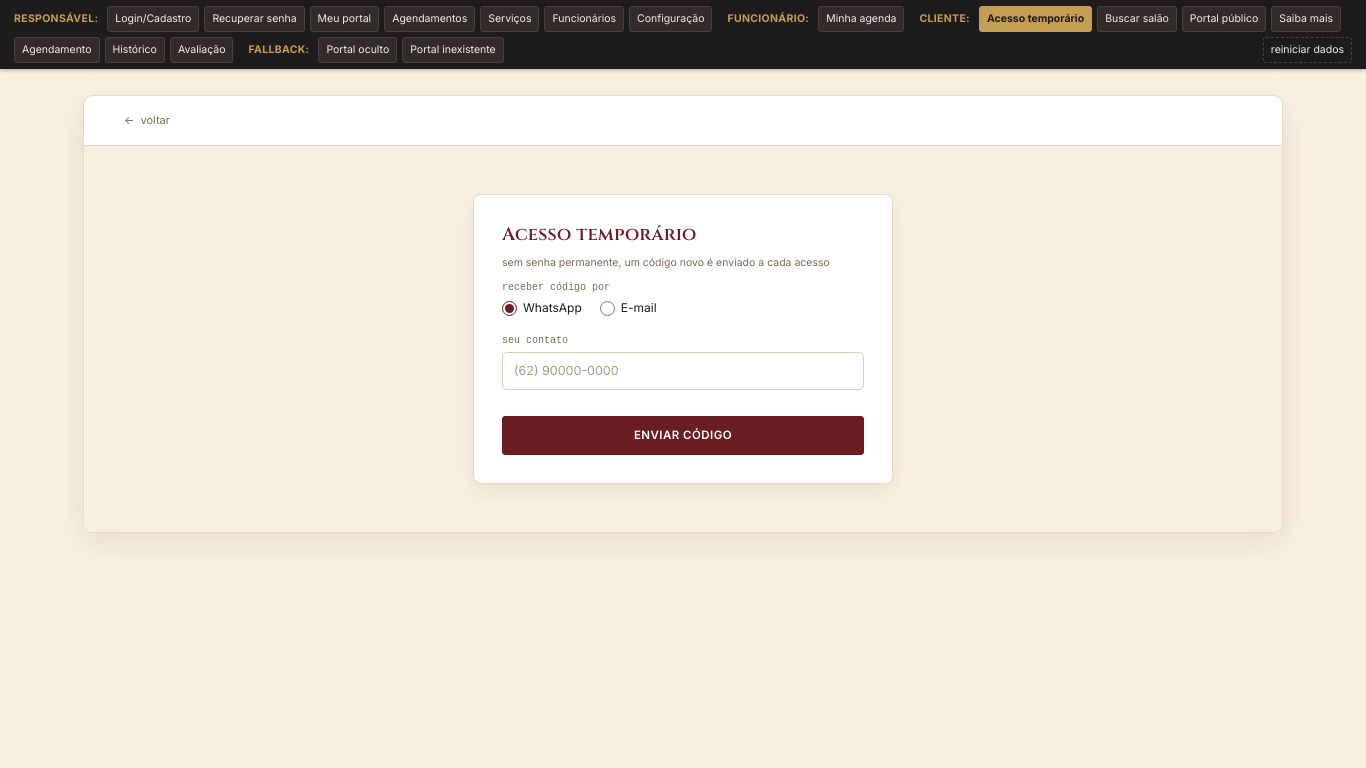
Test: acesso do cliente e busca › codigo errado e certo, depois lista saloes
Check: the heading "Acesso temporário" is shown, box x1=502 y1=222 x2=697 y2=246
Type "62999990000" into the field labelled "seu contato".
click(683, 371); type("62999990000")  # box x1=502 y1=352 x2=864 y2=390
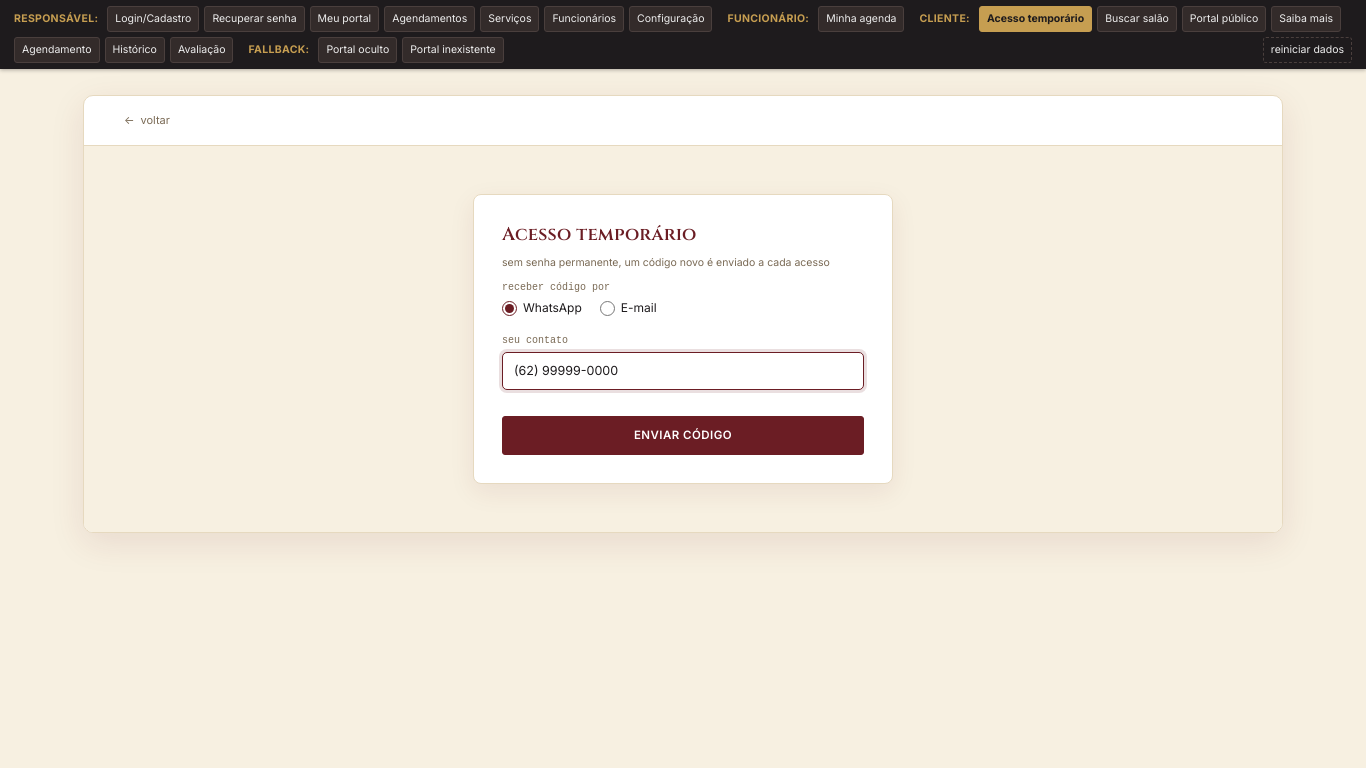
Click the button "Enviar código".
click(683, 435)  # box x1=502 y1=416 x2=864 y2=455
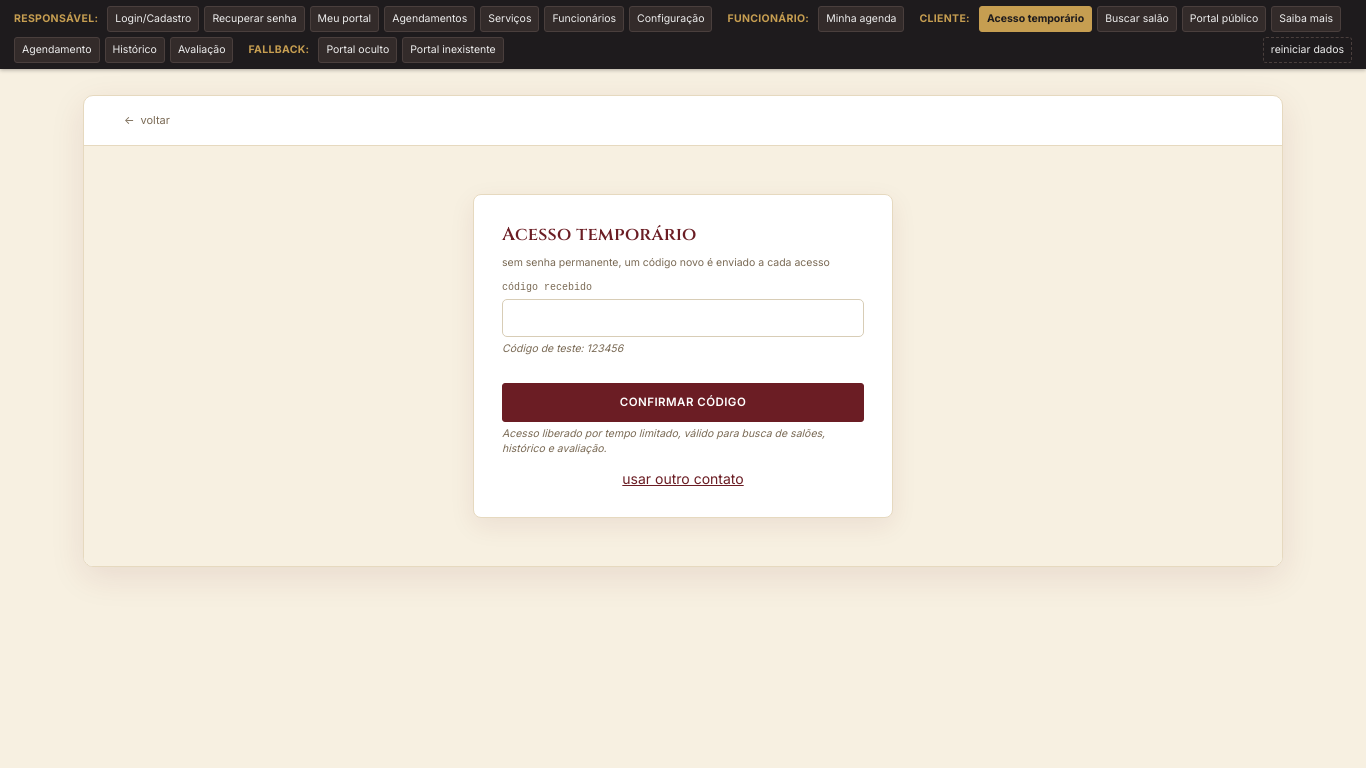
Type "000000" into the field labelled "código recebido".
click(683, 318); type("000000")  # box x1=502 y1=299 x2=864 y2=337
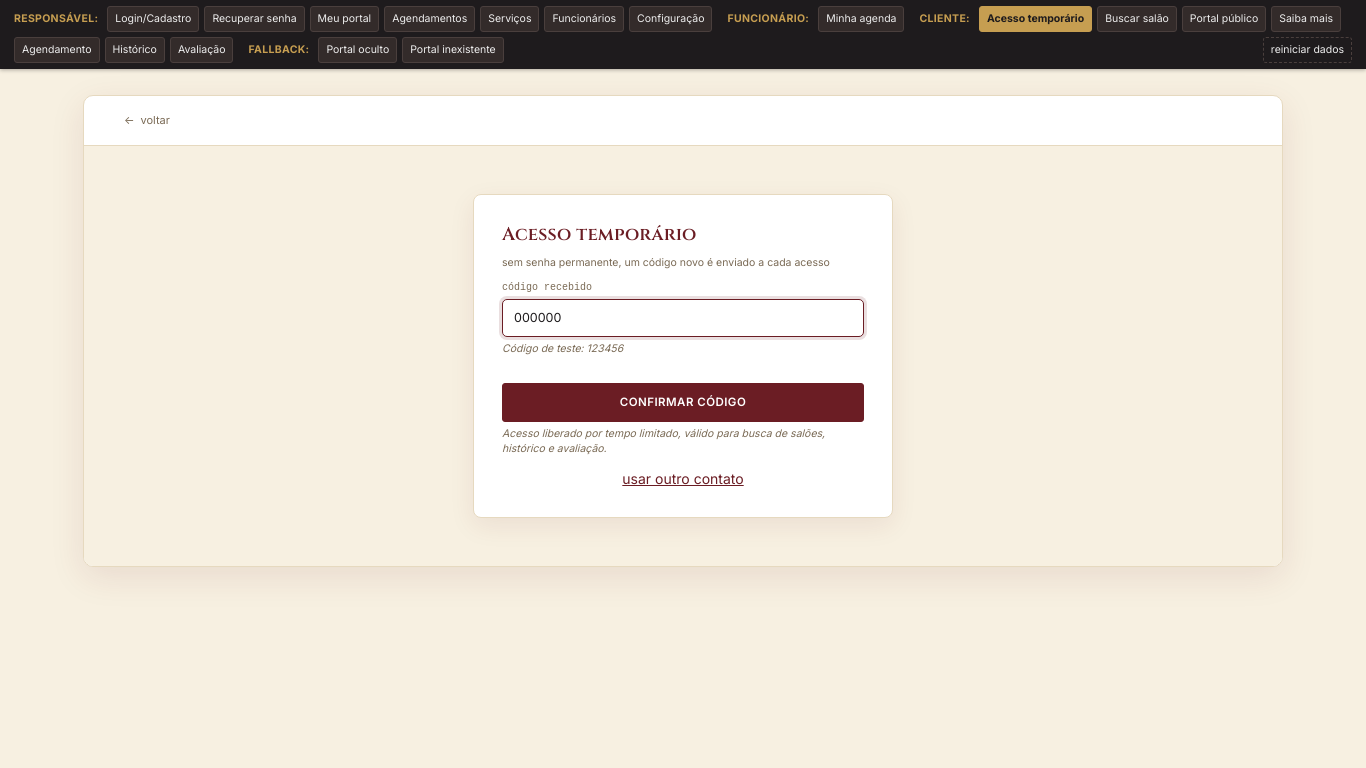
Click the button "Confirmar código".
click(683, 402)  # box x1=502 y1=383 x2=864 y2=422
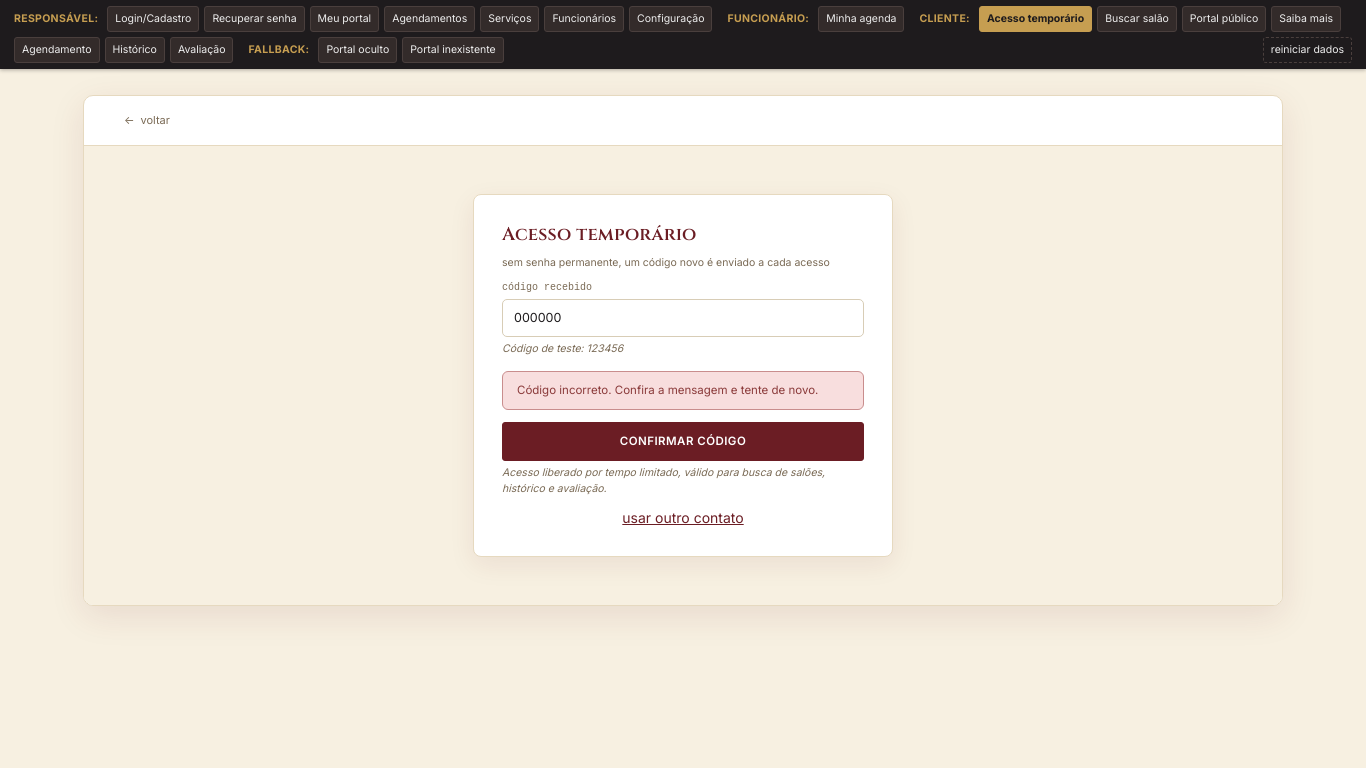
Check: the text "Código incorreto. Confira a mensagem e tente de novo." is shown, box x1=502 y1=371 x2=864 y2=410
Replace the text in the field labelled "código recebido" with "123456" at (683,318), box x1=502 y1=299 x2=864 y2=337
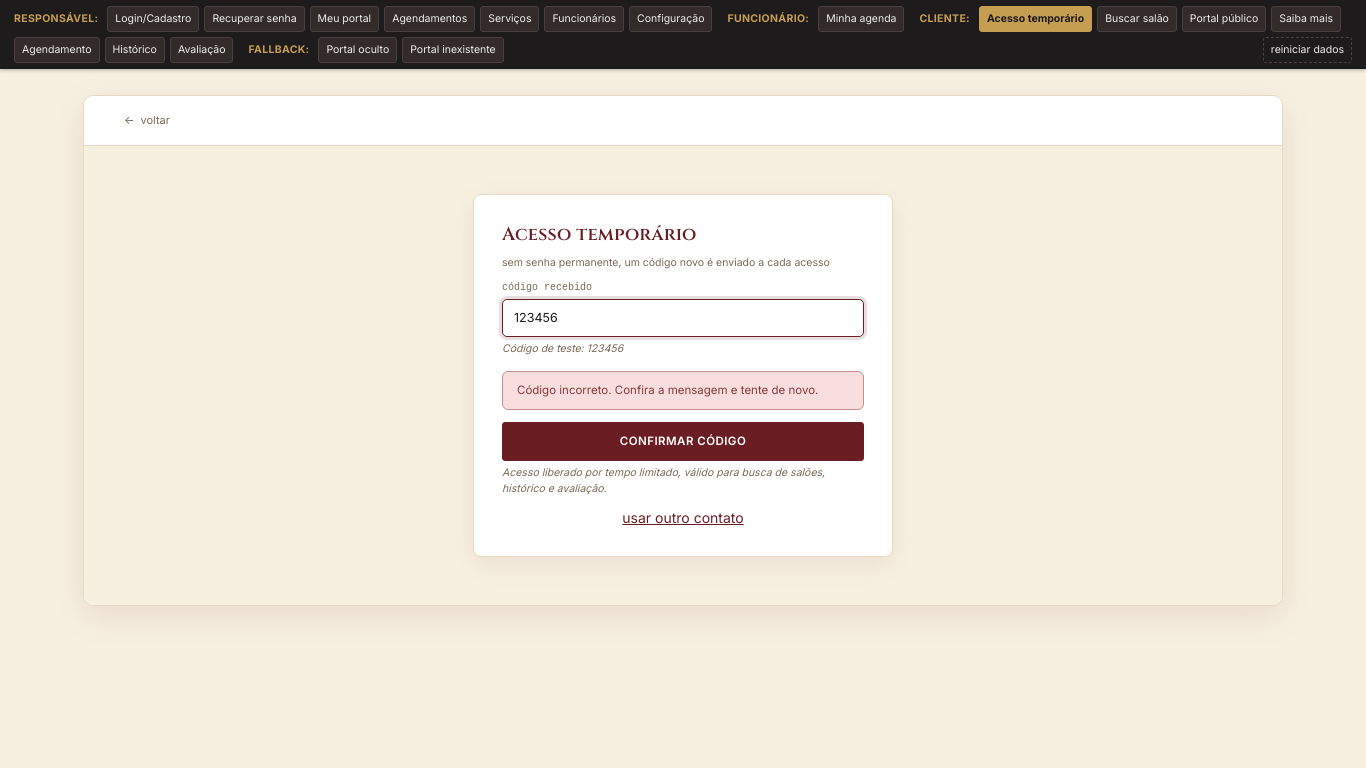
Click the button "Confirmar código".
click(683, 441)  # box x1=502 y1=422 x2=864 y2=461
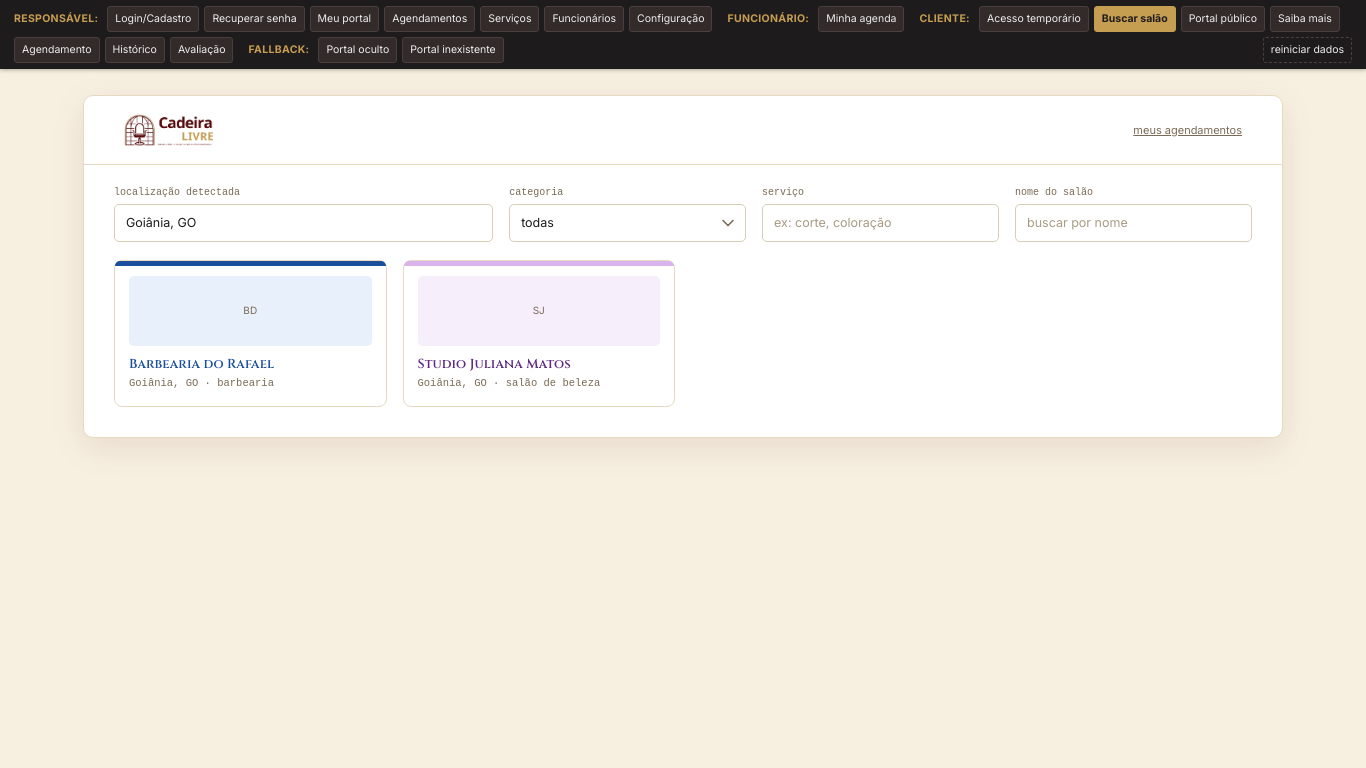
Check: the heading "Barbearia do Rafael" is shown, box x1=129 y1=354 x2=274 y2=372
Check: the heading "Studio Juliana Matos" is shown, box x1=418 y1=354 x2=571 y2=372
